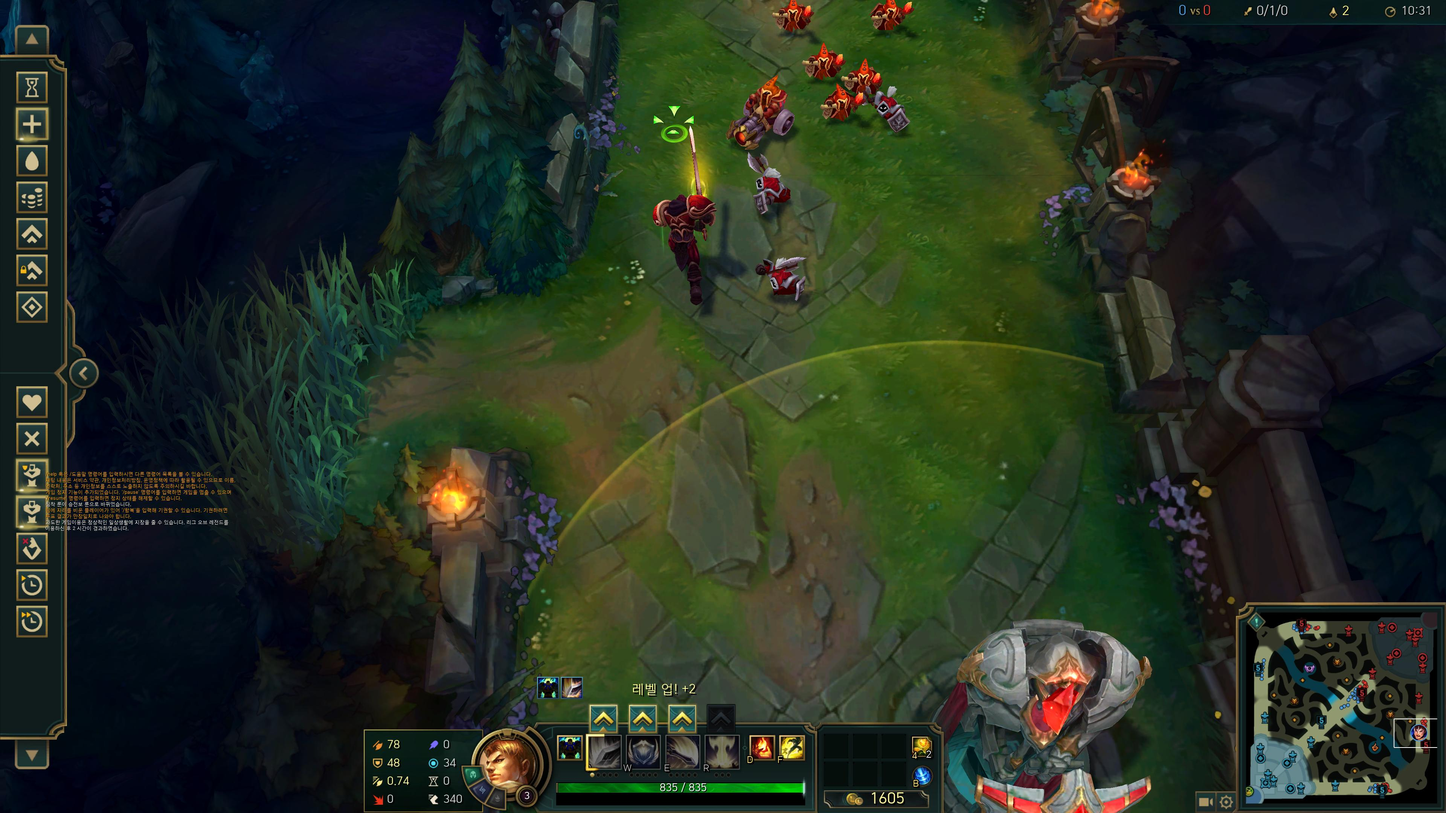enemy-caster-minion: (822, 82, 865, 118), (804, 41, 845, 77), (843, 56, 882, 91), (772, 0, 813, 31), (872, 0, 913, 29)
enemy-melee-minion: (747, 150, 791, 212), (755, 255, 808, 301), (874, 84, 911, 130)
enemy-siege-minion: (727, 73, 795, 148)
enemy-tower: (936, 620, 1153, 813)
